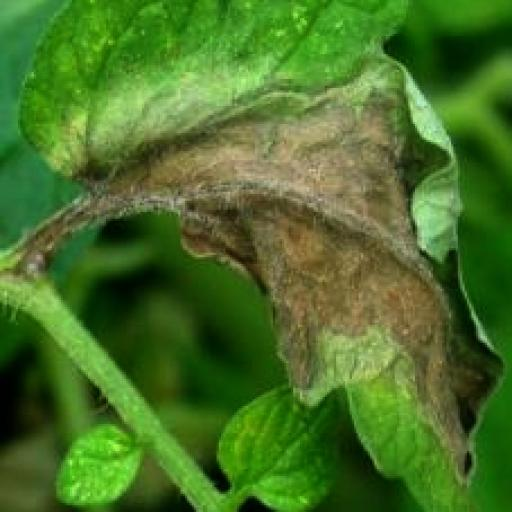disease_tomato: (7, 0, 510, 510)
